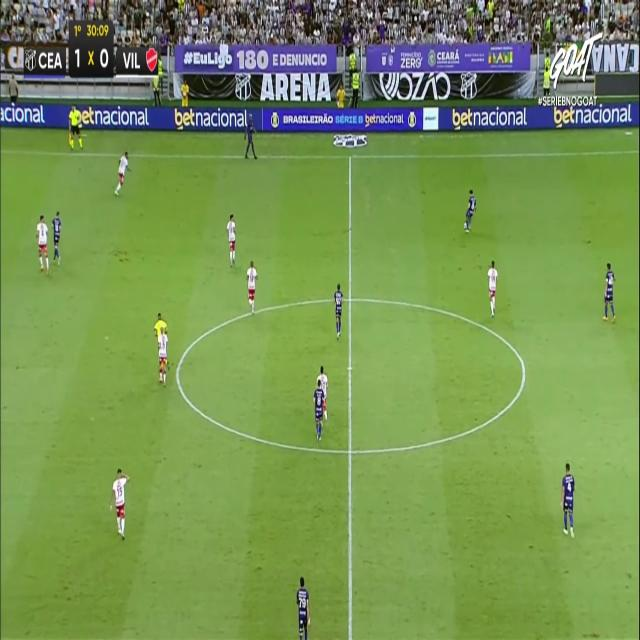ball: (459, 219, 472, 234)
player: (109, 467, 130, 540), (560, 461, 575, 538), (296, 575, 310, 639), (313, 378, 327, 441), (602, 261, 616, 323), (35, 214, 49, 276), (114, 150, 131, 196), (157, 326, 169, 386), (246, 260, 258, 315), (244, 113, 257, 159), (333, 283, 343, 340), (487, 260, 497, 317), (52, 210, 62, 265), (226, 213, 236, 267), (464, 188, 476, 232)
referee: (64, 98, 84, 160), (154, 313, 166, 346)
